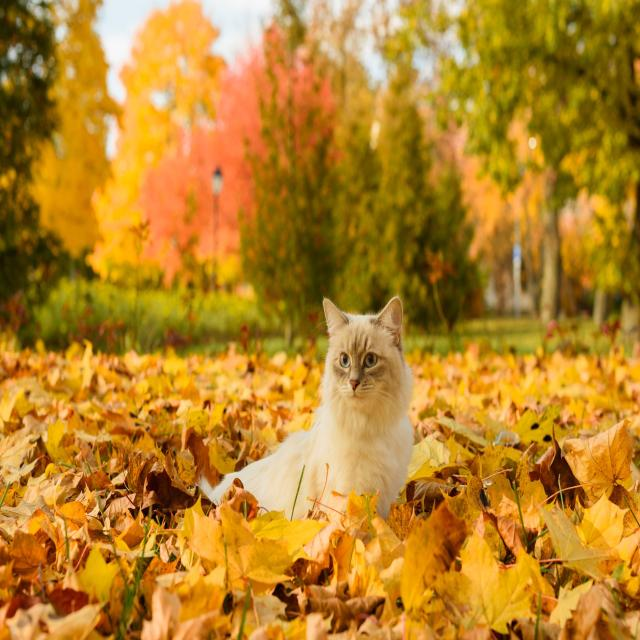Neva Masquerade: (186, 290, 417, 532)
